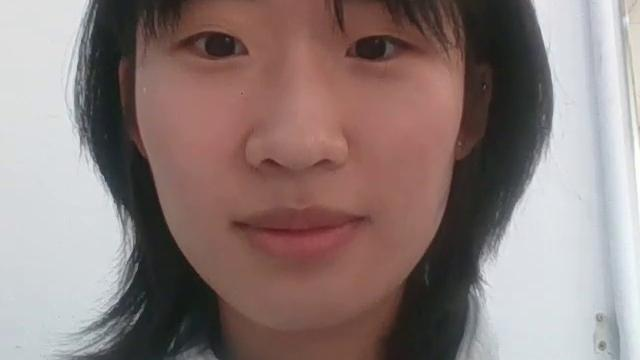eye: (206, 33, 232, 57), (358, 38, 384, 59)
iris: (344, 35, 412, 63), (187, 31, 250, 59)
